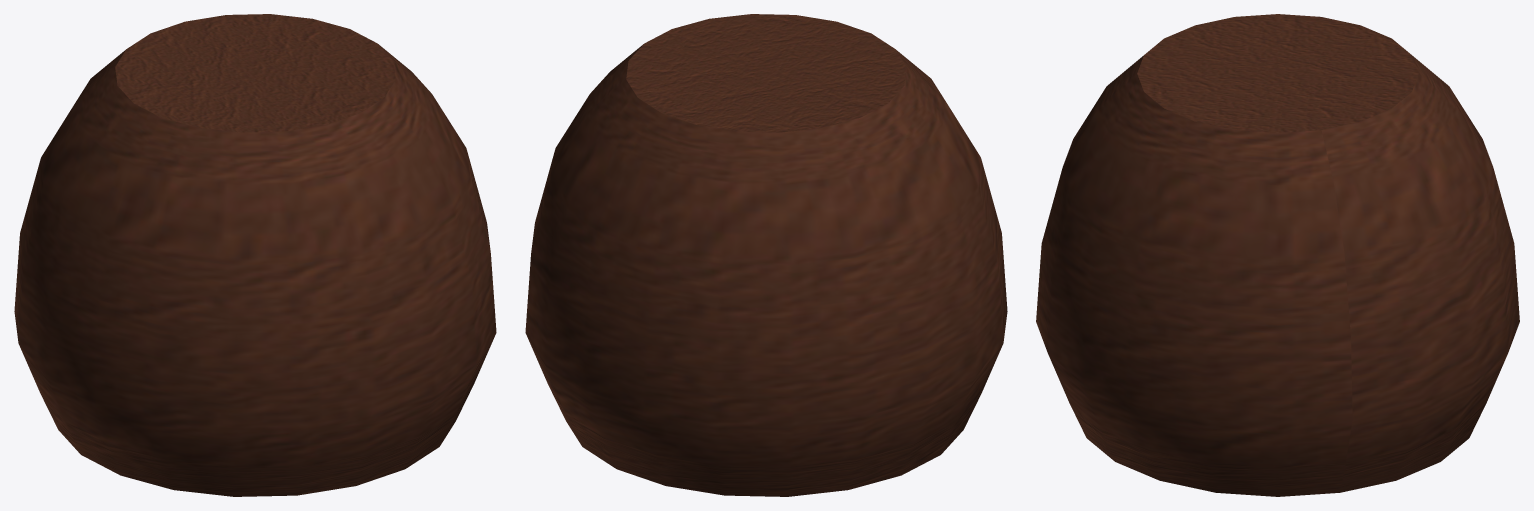
The model's file is chocoUp.fbx.
The picture shows the model from 3 angles, left to right: view 1: azimuth 30°, elevation 25°; view 2: azimuth 150°, elevation 25°; view 3: azimuth 270°, elevation 25°; orthographic projection.
Visible parts, largest first — view 1: pCylinder1; view 2: pCylinder1; view 3: pCylinder1.
Boxes of the visible parts, x1,y1,x2,y2 form: pCylinder1: (14, 14, 496, 496); pCylinder1: (525, 14, 1007, 496); pCylinder1: (1036, 14, 1519, 496).
Bounding box in the file's own units: 2.05 × 1.58 × 2.05.
